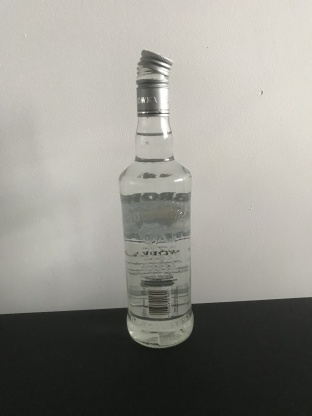nakretka: (134, 47, 174, 118)
